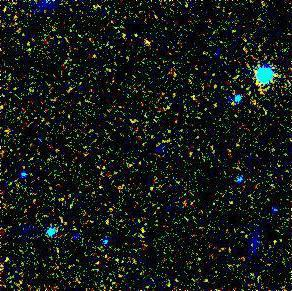star: (133, 21, 163, 51)
